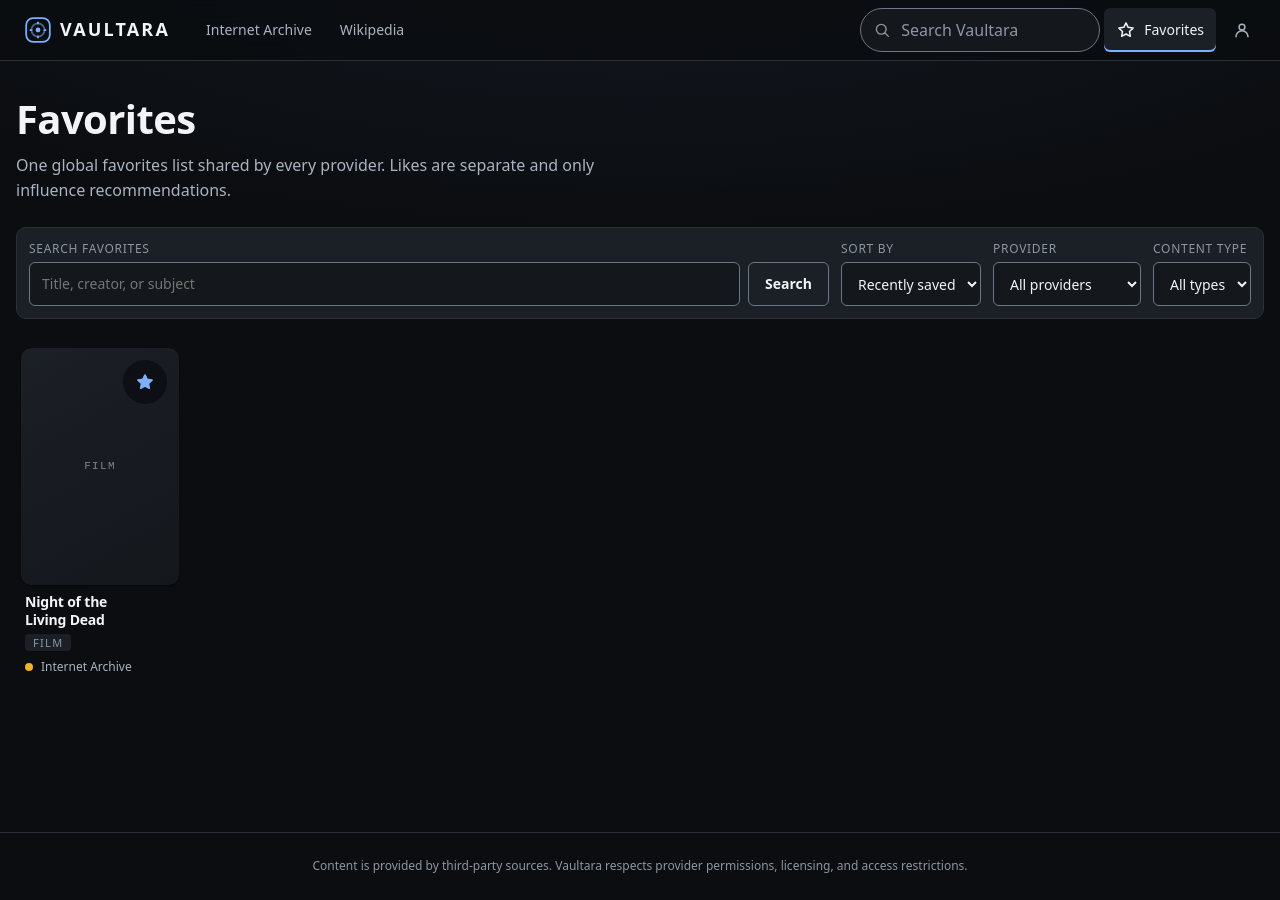
Test: favorites page › removes a favorite from the list
The width and height of the screenshot is (1280, 900).
Expected: the link "Night of the Living Dead" is shown, [25,593,107,629]
Click the button named "Remove Night of the Living Dead from favorites": (145, 382) [123,360,167,404]
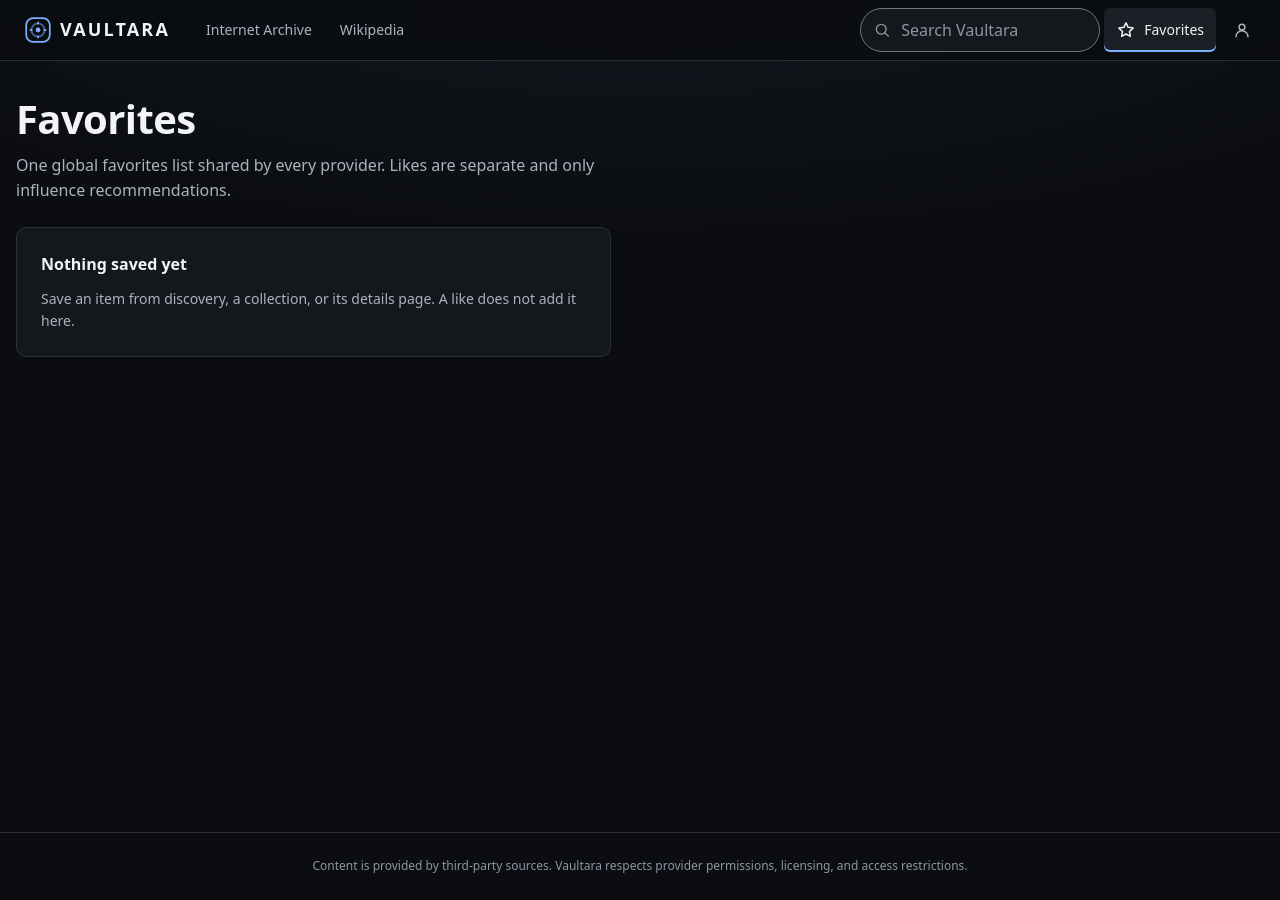
Result: the link "Night of the Living Dead" is gone
Result: the text "Nothing saved yet" is shown at [41,253,187,275]
